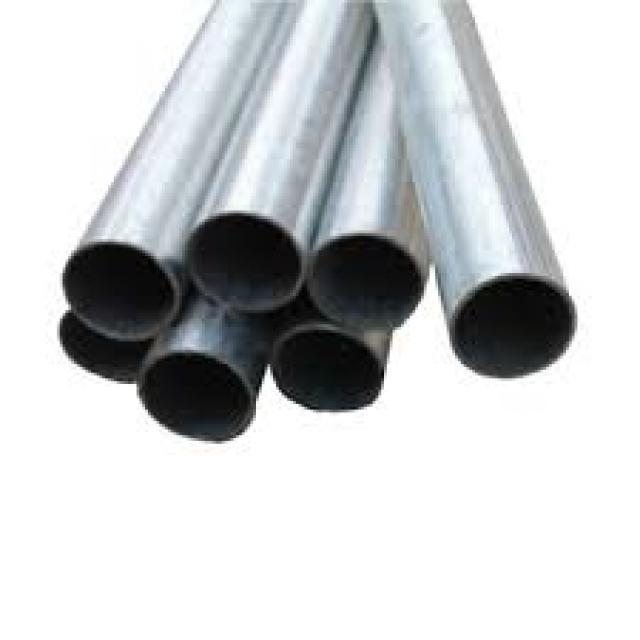pipe: (452, 275, 577, 378), (63, 243, 177, 342), (189, 213, 301, 312), (309, 236, 423, 329), (139, 354, 254, 442), (272, 327, 385, 410), (59, 313, 151, 384)
